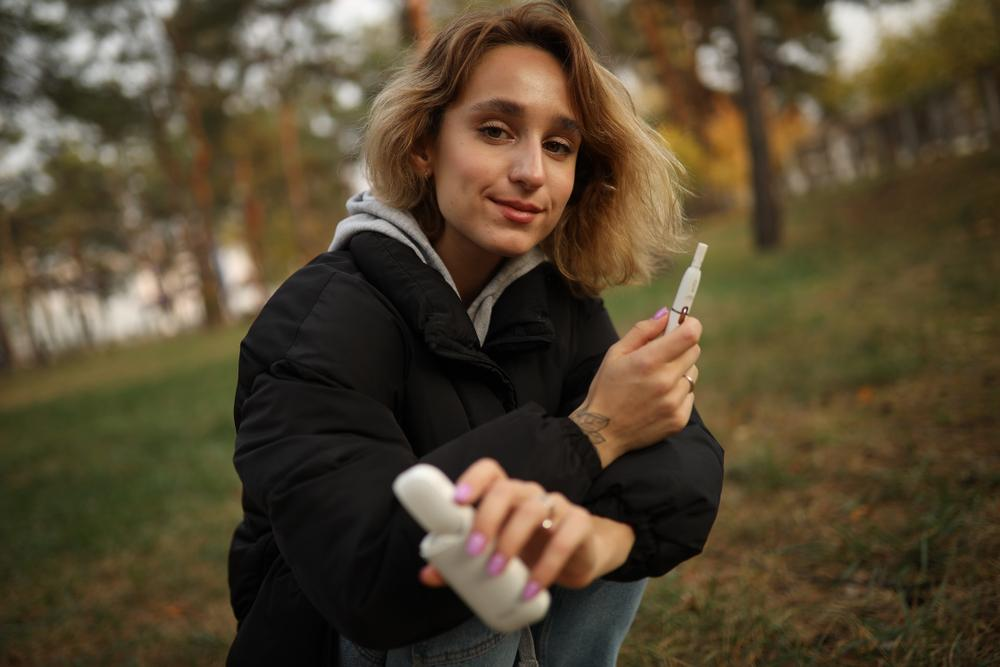iqos: (665, 243, 708, 335)
